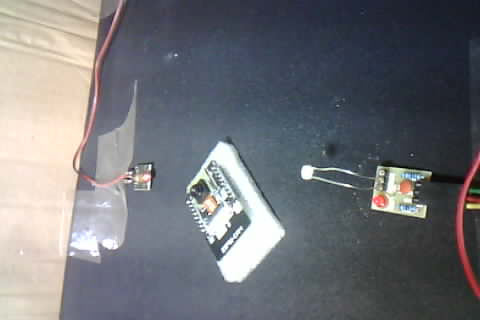esp32: (180, 142, 272, 271)
